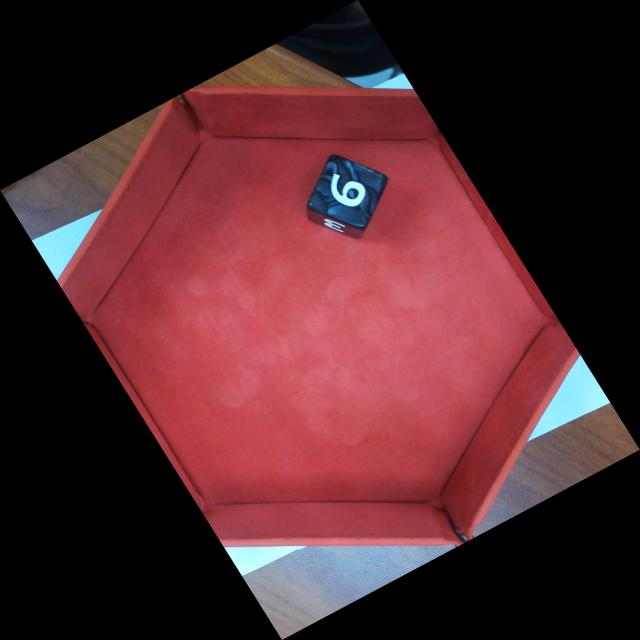dice: (314, 161, 383, 217)
